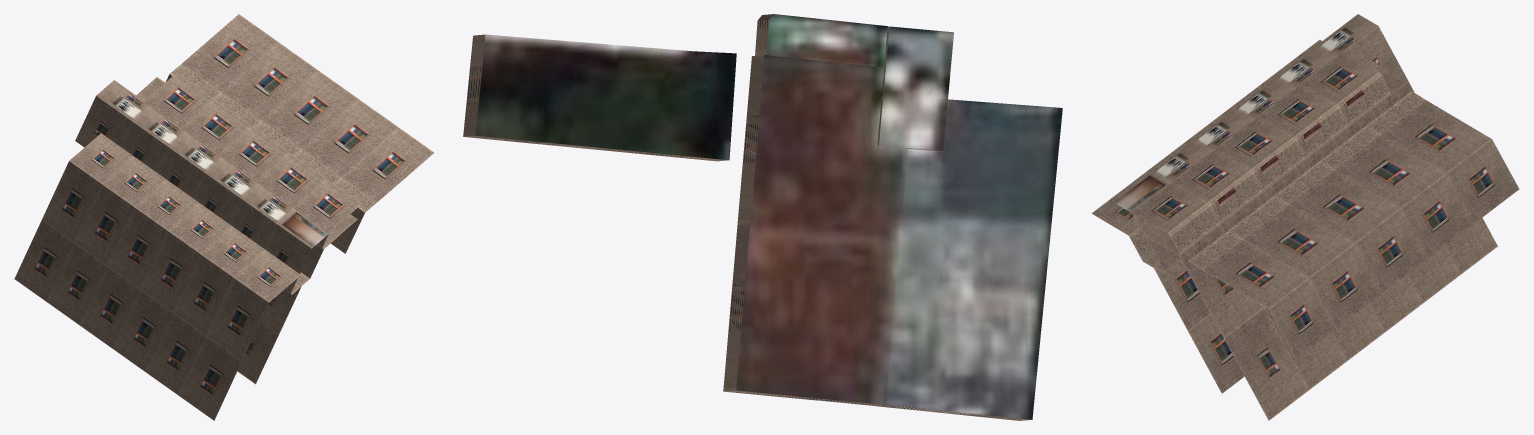
3 renders of one model, left to right at view 1: azimuth 30°, elevation 25°; view 2: azimuth 150°, elevation 25°; view 3: azimuth 270°, elevation 25°, orthographic. The views are drawn at different scales.
Size of the model in its own units: 31.42 by 23.32 by 27.13.
18 materials, 18 textured.
